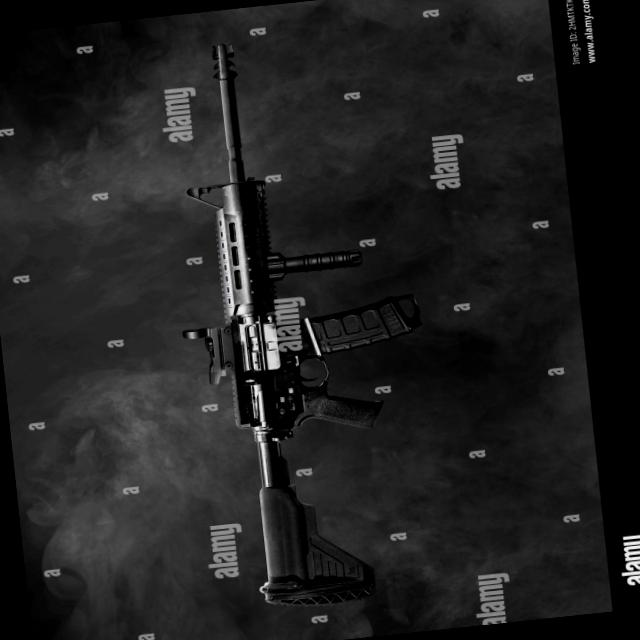long weapon: (160, 18, 444, 618)
